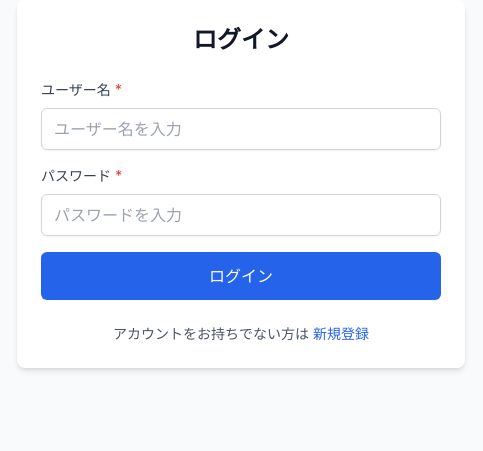
Test case: LoginForm › ログイン失敗時にエラーメッセージが表示される
The image size is (483, 451).
Type "testuser" into the field labelled "ユーザー名*" at (241, 129), box [41,108,441,150]
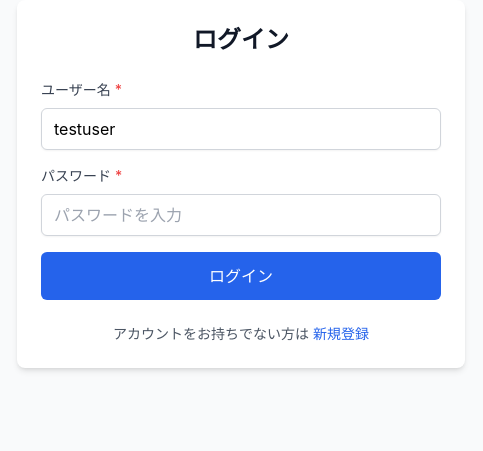
Type "wrongpassword" into the password field labelled "パスワード*" at (241, 215), box [41,194,441,236]
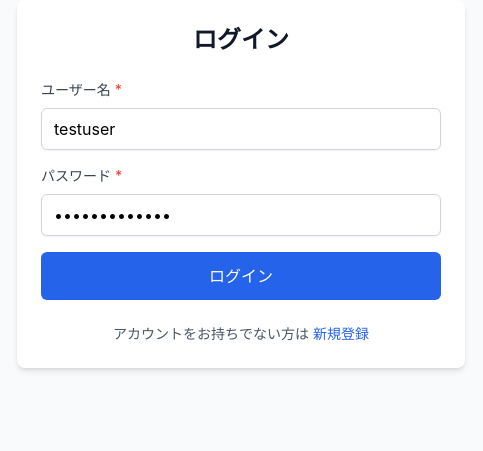
Click the button "ログイン" at (241, 276), box [41,252,441,300]
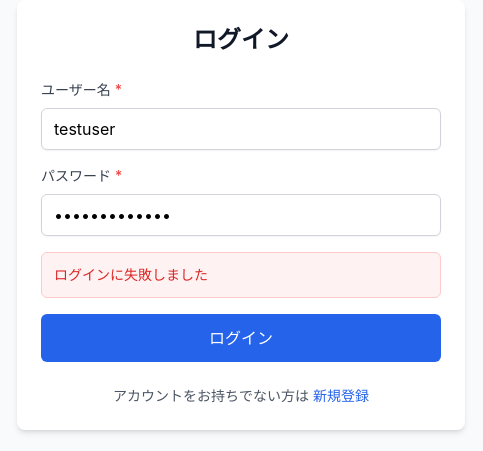
Expected: the text "ログインに失敗しました" is shown, [54,266,208,283]
